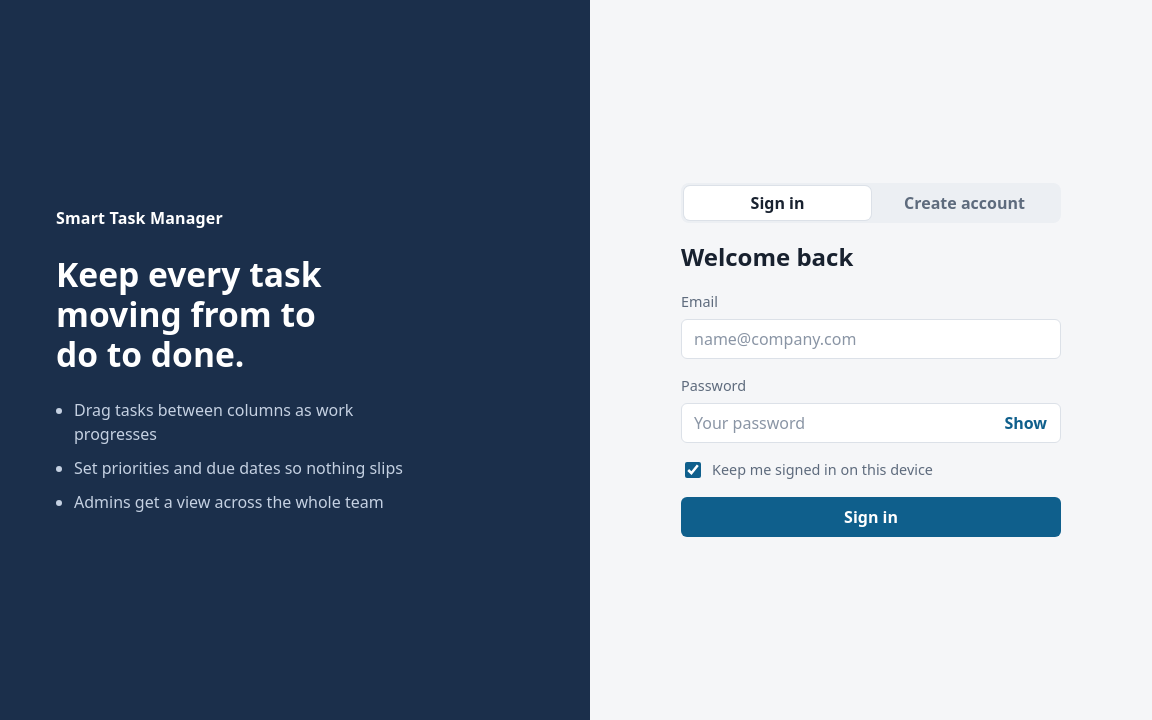
mismatched confirm password is reported
Click the tab "Create account" at (964, 203), box 871,186 -> 1058,220
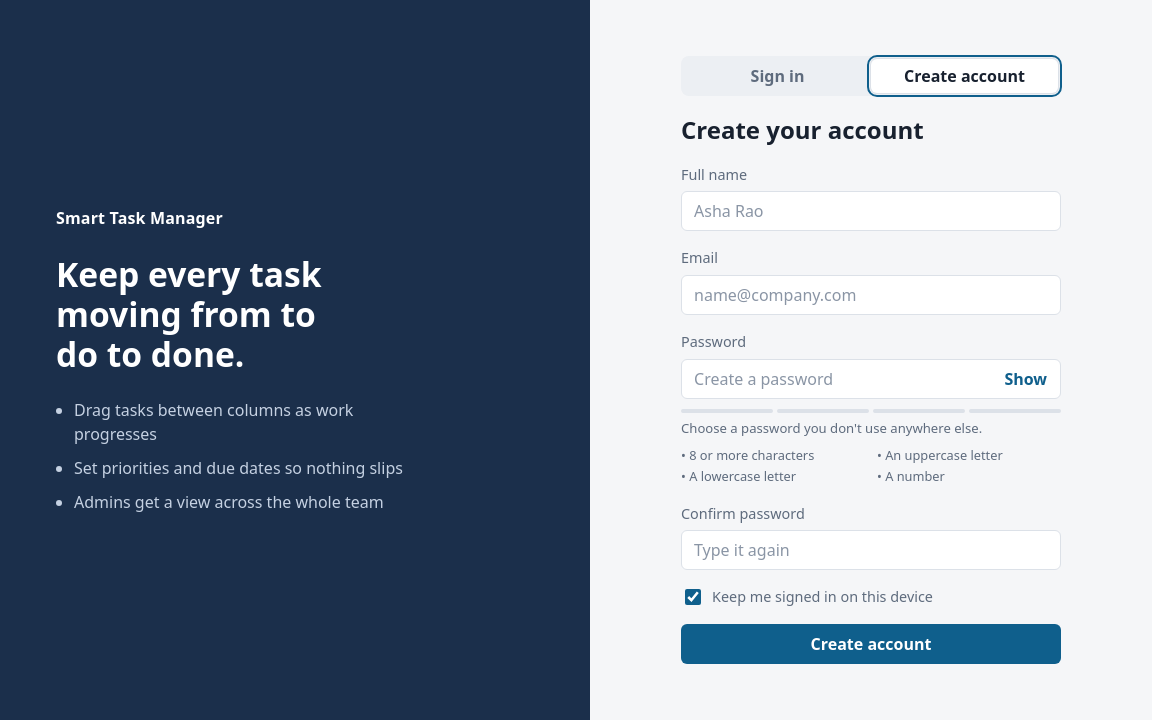
Type "Passw0rdOK" into the password field labelled "Password" at (871, 379), box 681,359 -> 1061,399
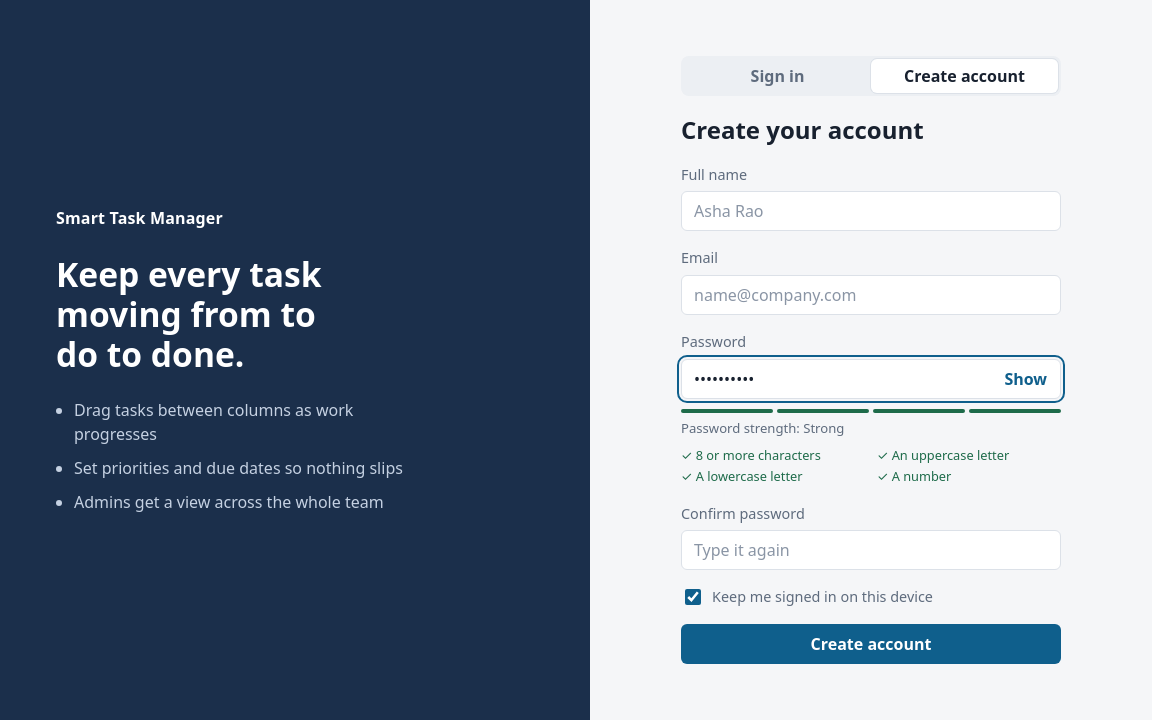
Type "Different1" into the password field labelled "Confirm password" at (871, 550), box 681,530 -> 1061,570
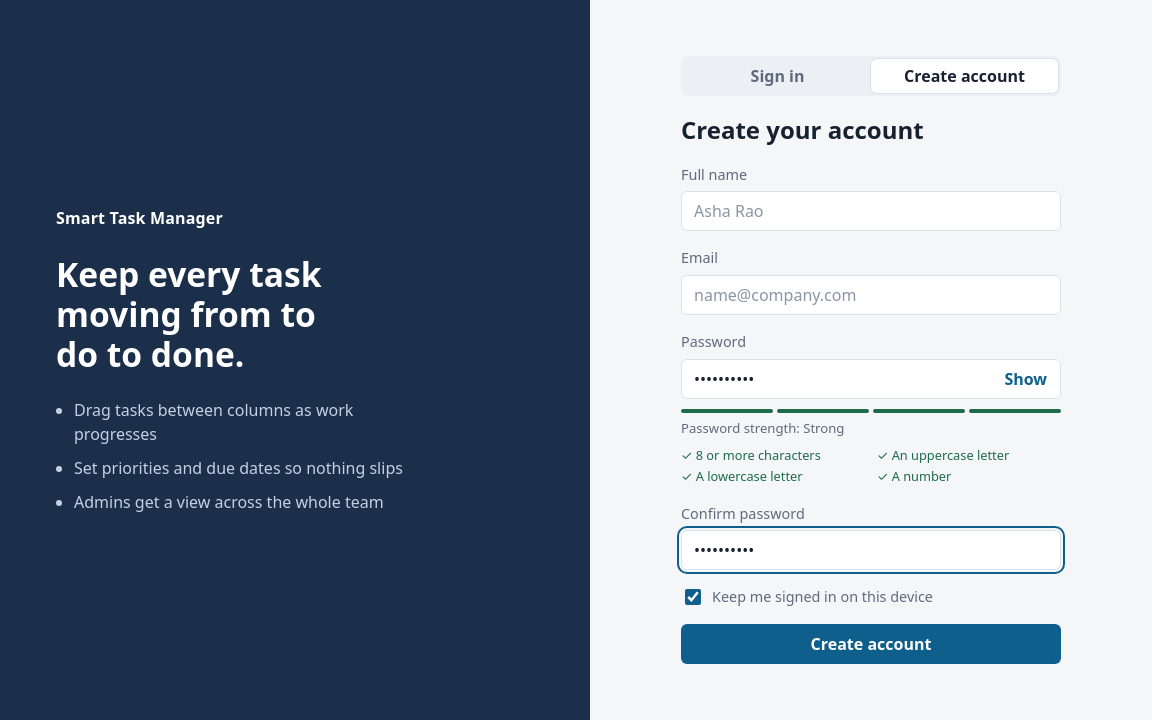
Press Tab
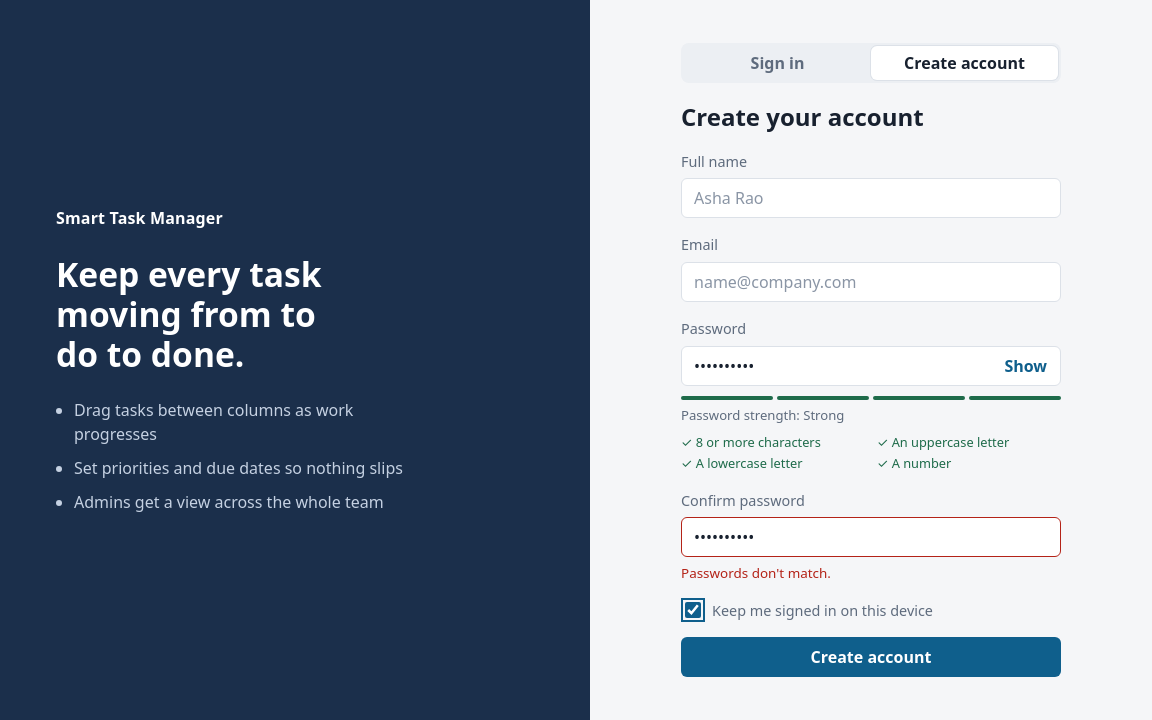
Now the text "Passwords don't match." is shown, box 681,564 -> 831,582
